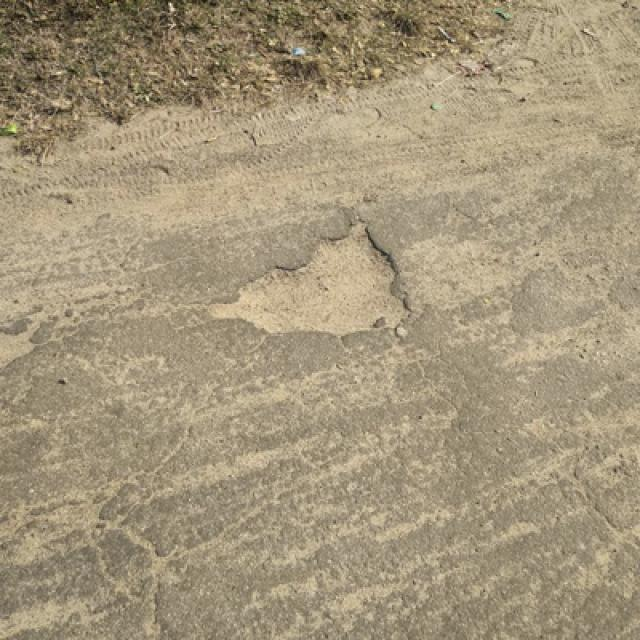Pothole: (206, 215, 416, 342)
